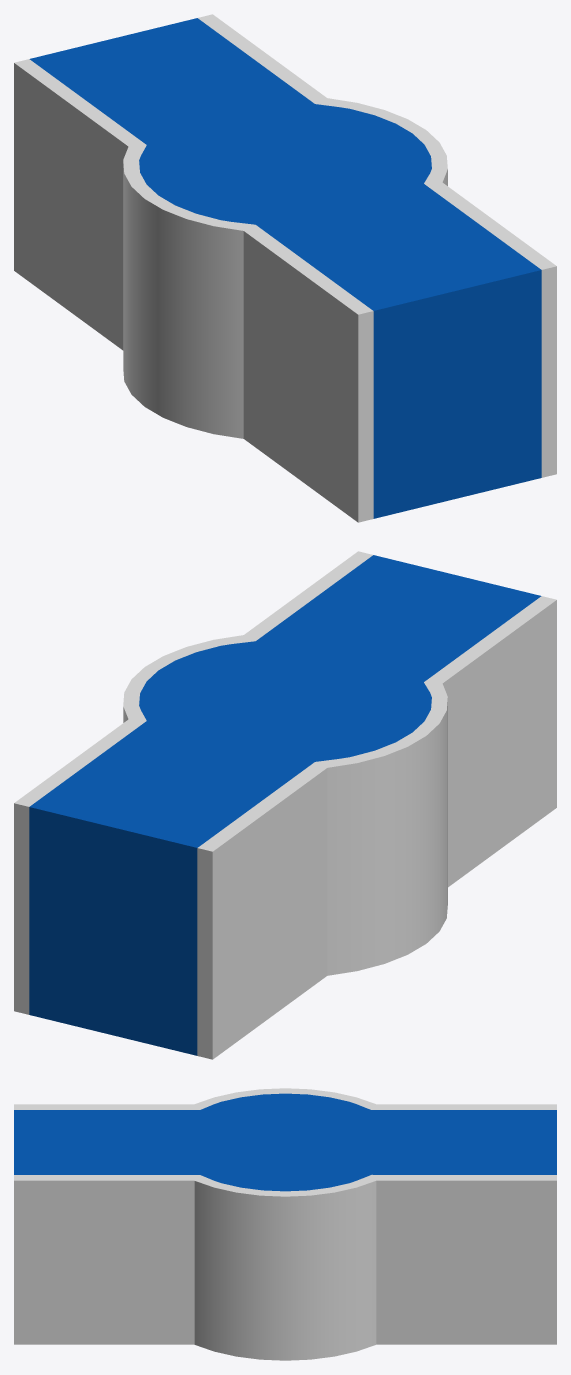
File: platform_endgame.fbx
3 views of the same model, one above another, from view 1: azimuth 30°, elevation 25°; view 2: azimuth 150°, elevation 25°; view 3: azimuth 270°, elevation 25° (orthographic). The views are drawn at different scales.
Parts seen in each view (by area): view 1: platform_endgame; view 2: platform_endgame; view 3: platform_endgame.
Boxes of the visible parts, x1,y1,x2,y2 form: platform_endgame: [14, 14, 556, 522]; platform_endgame: [14, 551, 556, 1059]; platform_endgame: [14, 1088, 556, 1360].
Bounding box in the file's own units: 8.51 × 6 × 18.
